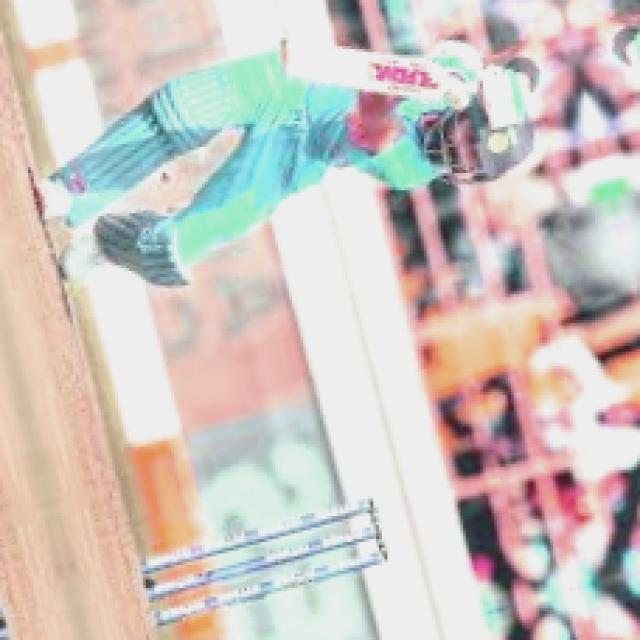bat: (281, 33, 459, 102)
toe: (280, 34, 295, 74)
